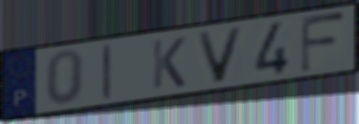0: (42, 47, 89, 108)
4: (252, 18, 292, 78)
F: (298, 10, 349, 75)
I: (100, 41, 114, 103)
K: (150, 35, 188, 91)
V: (194, 25, 247, 85)
